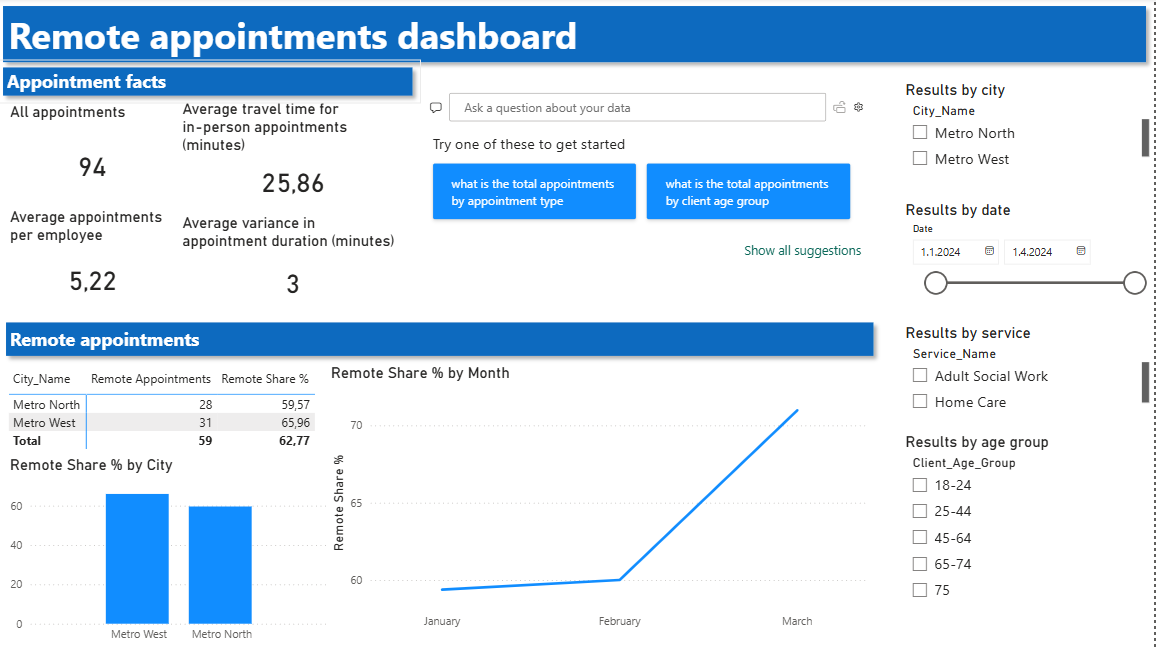

The dashboard page shown, as its layout file describes it:
{"tool":"powerbi","page":{"name":"Page 1","canvas":[1280,720],"ordinal":0},"visuals":[{"type":"card","title":"All appointments","fields":{"Values":["fact_appointments.Total Appointments"]},"box":[10.7,115.7,177,136.2],"z":0},{"type":"card","title":"Share of remote appointments (goal at least 50 %)","fields":{"Values":["fact_appointments.Remote Share %"]},"box":[10.7,404.6,152.7,166.3],"z":1000},{"type":"card","title":"Average travel time (in minutes) for in-person appointments","fields":{"Values":["fact_appointments.Avg Travel Time"]},"box":[272.3,111.9,187.7,120.6],"z":2000},{"type":"columnChart","title":"Remote Share % by City","fields":{"Category":["dim_city.City_Name"],"Y":["fact_appointments.Remote Share %"]},"box":[171.2,404.6,363.8,286.9],"z":3000},{"type":"lineChart","fields":{"Category":["dim_date.Date.Variation.Date Hierarchy.Year","dim_date.Date.Variation.Date Hierarchy.Quarter","dim_date.Date.Variation.Date Hierarchy.Month","dim_date.Date.Variation.Date Hierarchy.Day"],"Y":["fact_appointments.Remote Share %"]},"box":[535,404.6,433.8,302.5],"z":4000},{"type":"card","title":"Average appointments per employee","fields":{"Values":["fact_appointments.Appointments per Employee"]},"box":[267.5,232.5,192.6,117.7],"z":5000},{"type":"slicer","title":"Results by city","fields":{"Values":["dim_city.City_Name"]},"box":[1000.9,91.4,279.1,101.2],"z":6000},{"type":"slicer","title":"Results by date","fields":{"Values":["dim_date.Date"]},"box":[1000.9,223.7,279.1,111.9],"z":7000},{"type":"slicer","title":"Results by service","fields":{"Values":["dim_services.Service_Name"]},"box":[1000.9,359.9,279.1,104.1],"z":8000},{"type":"slicer","title":"Results by age group","fields":{"Values":["dim_clients.Client_Age_Group"]},"box":[1000.9,480.5,279.1,196.5],"z":9000},{"type":"shape","box":[0,0,1280,79.8],"z":10000},{"type":"shape","box":[0,67.1,469.8,48.6],"z":11000},{"type":"shape","box":[3.9,350.2,975.6,54.5],"z":12000},{"type":"qnaVisual","box":[469.8,79.8,499,262.6],"z":12001},{"type":"cardVisual","title":"Remote appointments","fields":{"Data":["fact_appointments.Remote Appointments"]},"box":[18.5,244.1,187.7,106],"z":12002}]}

Visuals, with their boxes in screenshot pixels (x1, y1, x2, y2), scaled from the page's 1280x720 canvas onto the 1156x649 screenshot:
"All appointments" card: <bbox>10, 104, 170, 227</bbox>
"Share of remote appointments (goal at least 50 %)" card: <bbox>10, 365, 148, 515</bbox>
"Average travel time (in minutes) for in-person appointments" card: <bbox>246, 101, 415, 210</bbox>
"Remote Share % by City" columnChart: <bbox>155, 365, 483, 623</bbox>
lineChart - dim_date.Date.Variation.Date Hierarchy.Year x dim_date.Date.Variation.Date Hierarchy.Quarter: <bbox>483, 365, 875, 637</bbox>
"Average appointments per employee" card: <bbox>242, 210, 416, 316</bbox>
"Results by city" slicer: <bbox>904, 82, 1155, 174</bbox>
"Results by date" slicer: <bbox>904, 202, 1155, 303</bbox>
"Results by service" slicer: <bbox>904, 324, 1155, 418</bbox>
"Results by age group" slicer: <bbox>904, 433, 1155, 610</bbox>
shape: <bbox>0, 0, 1155, 72</bbox>
shape: <bbox>0, 60, 424, 104</bbox>
shape: <bbox>4, 316, 885, 365</bbox>
qnaVisual: <bbox>424, 72, 875, 309</bbox>
"Remote appointments" cardVisual: <bbox>17, 220, 186, 316</bbox>
